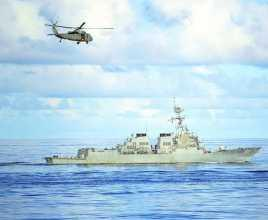airplane: (34, 17, 120, 50)
warship: (50, 96, 267, 167)
